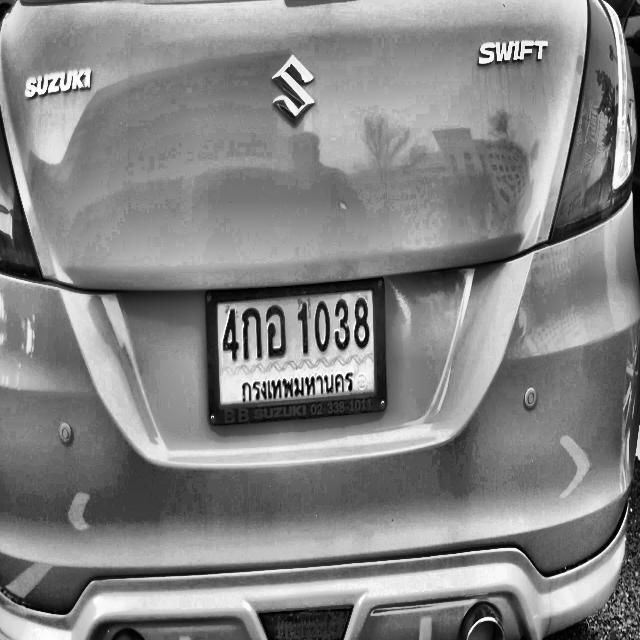license-plate: (202, 272, 390, 431)
